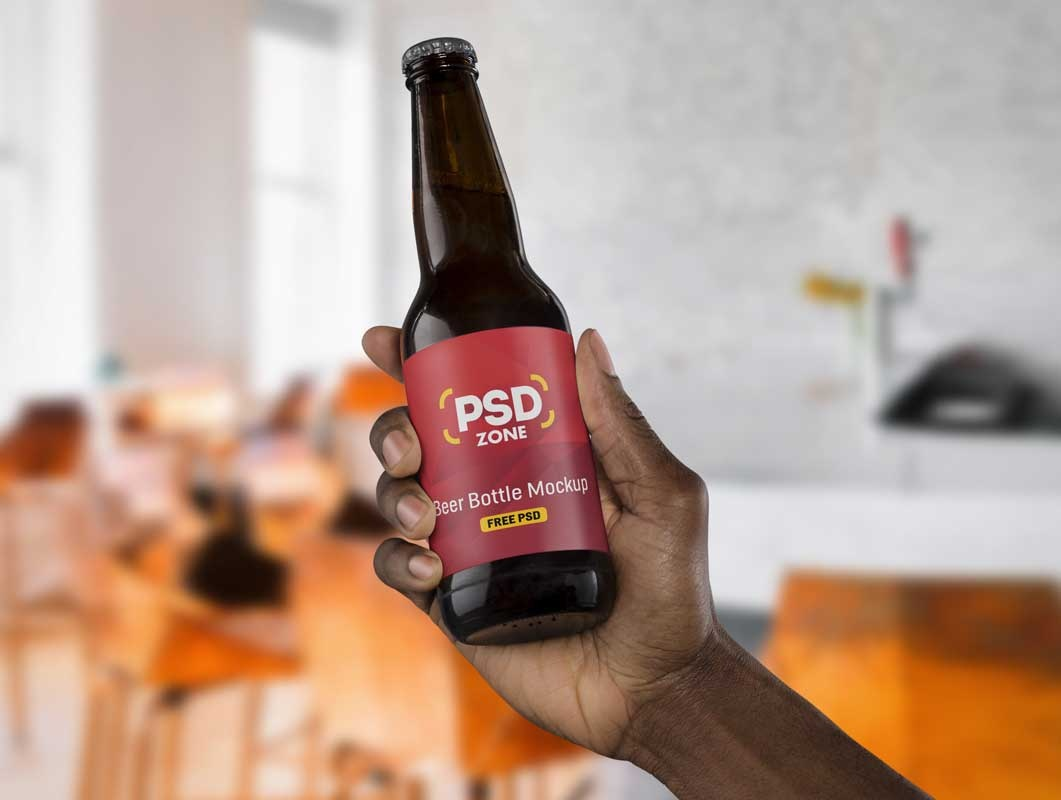beerBottle: (403, 41, 606, 635)
